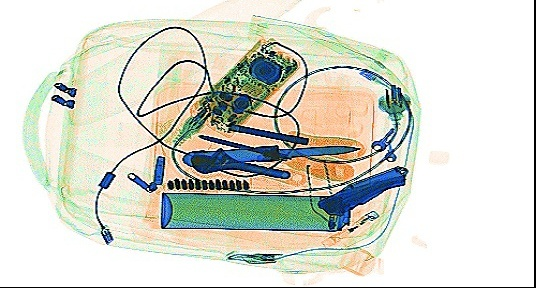knife: (315, 163, 410, 218)
lighter: (320, 207, 380, 245)
pressure: (159, 190, 355, 231)
